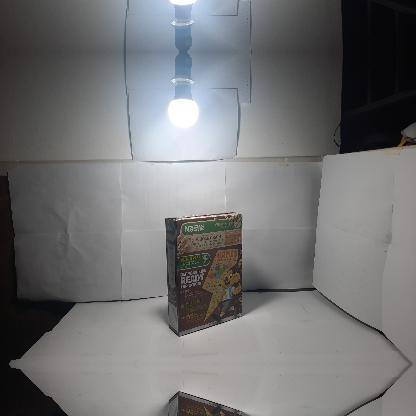Koko-Krunch: (165, 212, 243, 336)
